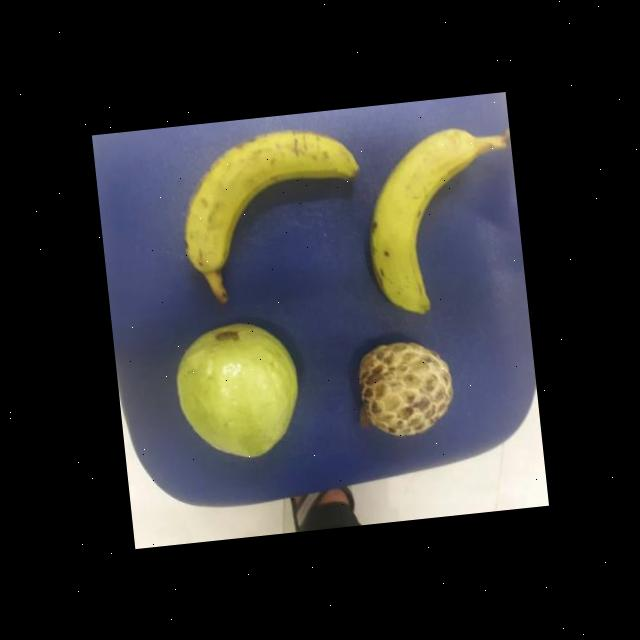Sakya fruit: (348, 336, 459, 441)
banana: (165, 123, 363, 277), (352, 123, 497, 318)
guava: (165, 318, 302, 462)
